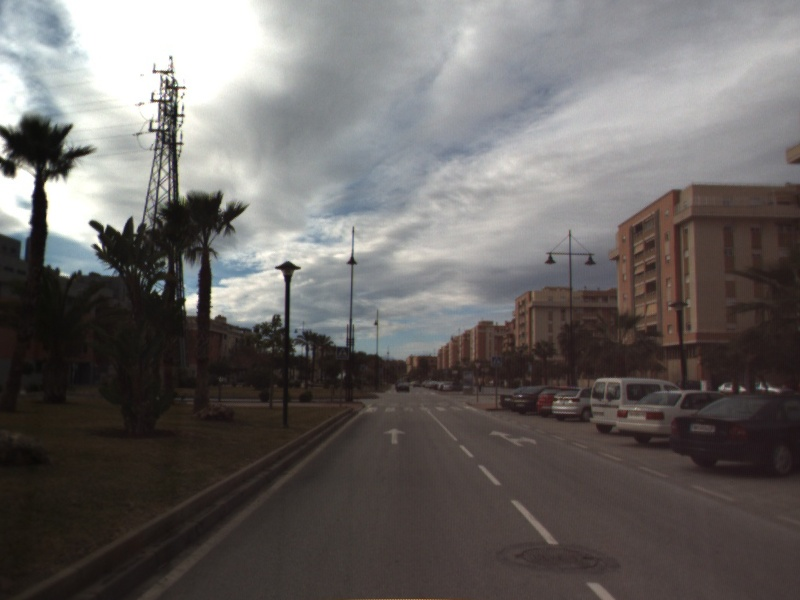STRAIGHT: (382, 426, 408, 446)
STRAIGHT_RIGHT: (487, 428, 538, 448)
